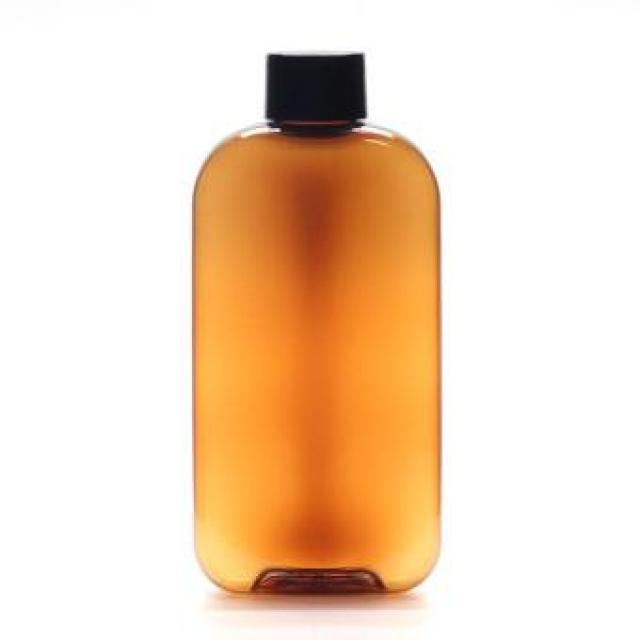bottle: (190, 49, 442, 595)
